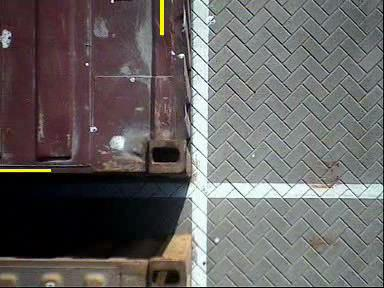groundmarker_2: (195, 139, 239, 189)
